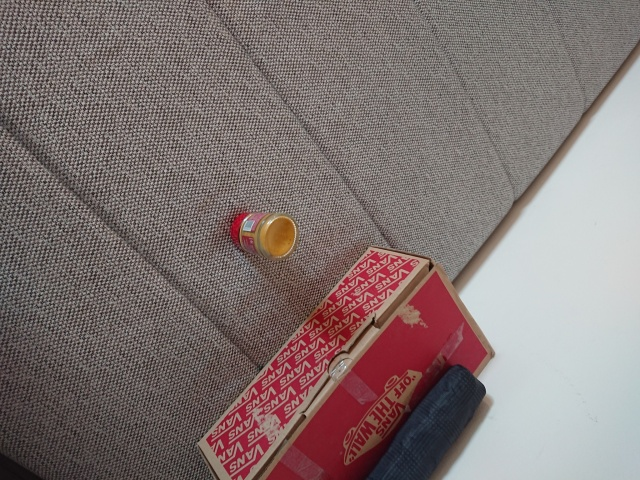Kotanyi Curry Spices Mix 70g: (229, 210, 299, 263)
